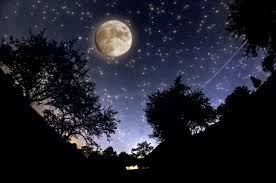moon: (95, 20, 132, 57)
